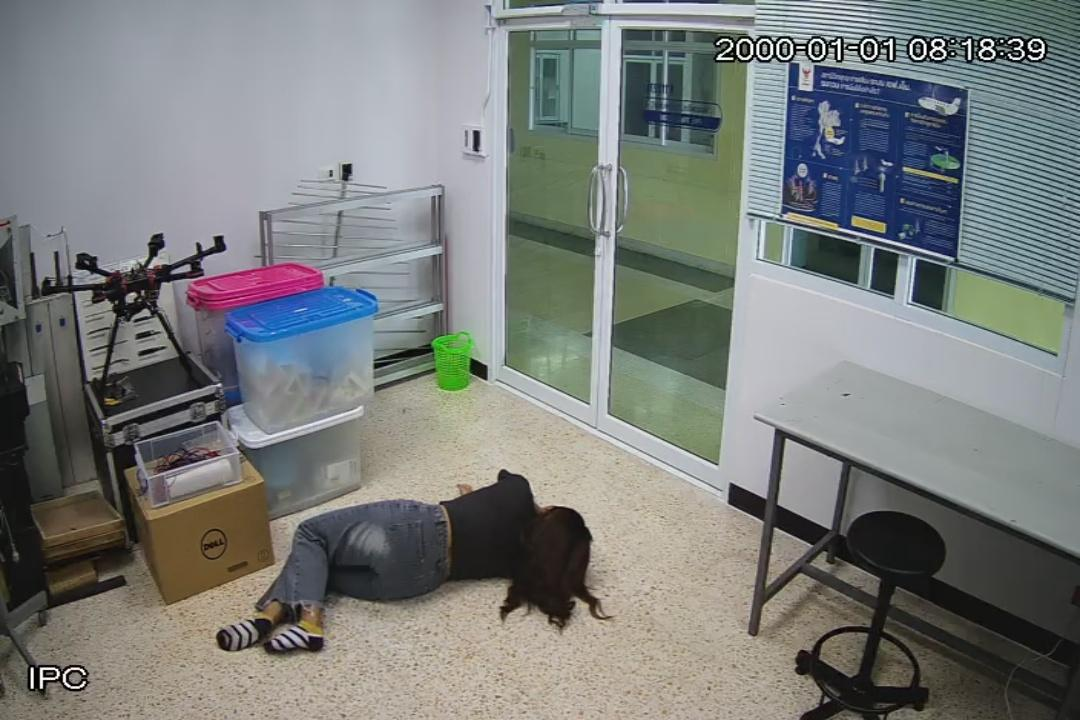fall: (217, 470, 594, 653)
